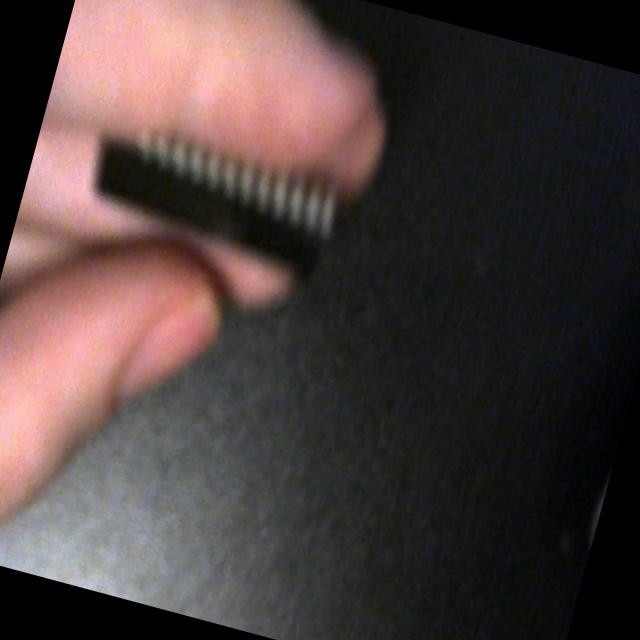atmega: (71, 101, 356, 287)
